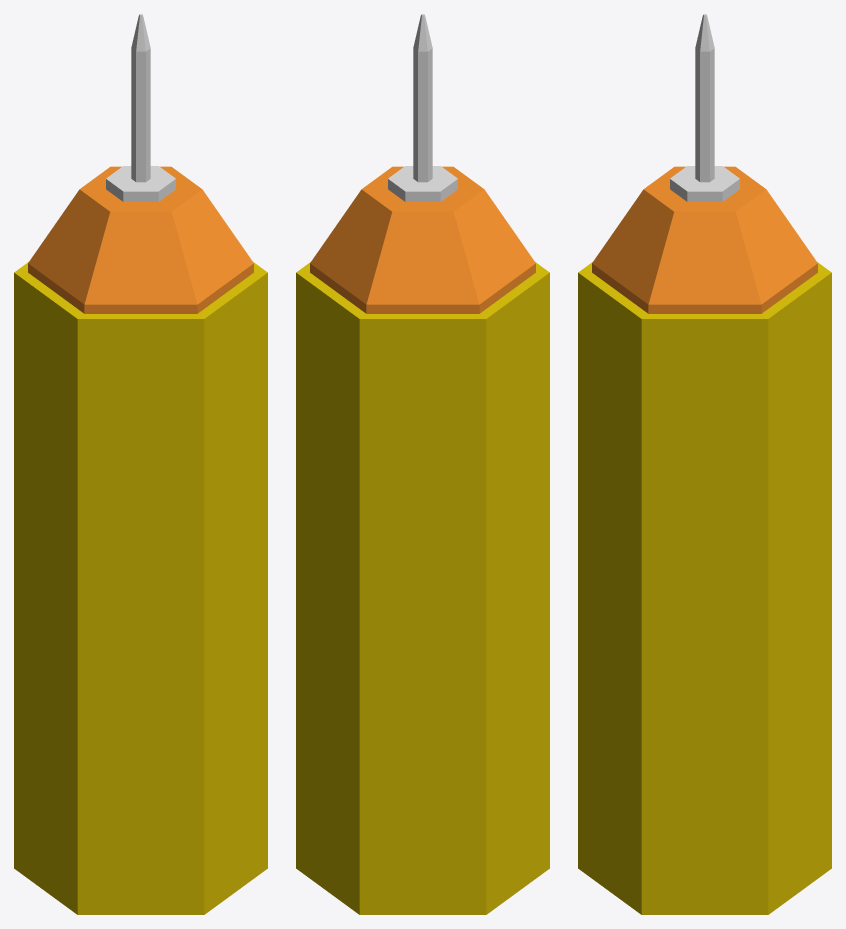
File: toy_gun_dart.fbx
3 renders of one model, left to right at view 1: azimuth 30°, elevation 25°; view 2: azimuth 150°, elevation 25°; view 3: azimuth 270°, elevation 25°, orthographic.
Parts seen in each view (by area): view 1: Dart; view 2: Dart; view 3: Dart.
Part boxes in pixels (<box>): Dart: <box>14,14,267,914</box>; Dart: <box>296,14,549,914</box>; Dart: <box>578,14,831,914</box>.
Bounding box in the file's own units: 17.32 × 74.26 × 20.
